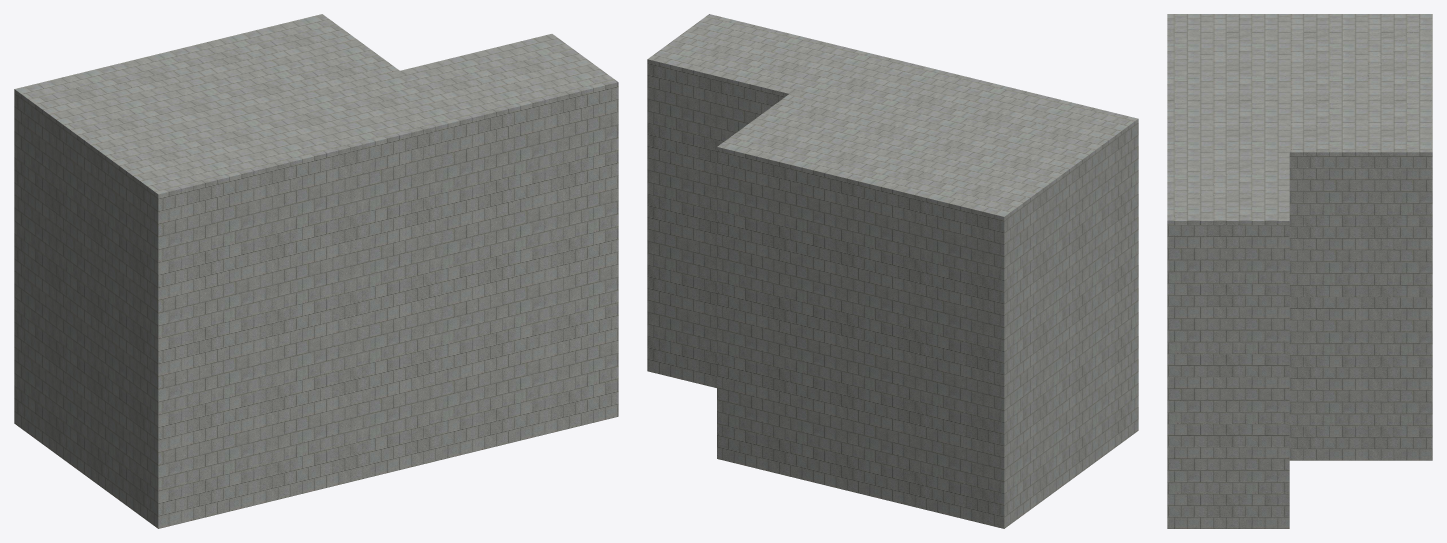
The picture shows the model from 3 angles, left to right: view 1: azimuth 30°, elevation 25°; view 2: azimuth 150°, elevation 25°; view 3: azimuth 270°, elevation 25°; orthographic projection. The views are drawn at different scales.
Parts seen in each view (by area): view 1: SketchUp; view 2: SketchUp; view 3: SketchUp.
Boxes of the visible parts, x1,y1,x2,y2 form: SketchUp: (14, 14, 618, 528); SketchUp: (647, 14, 1138, 528); SketchUp: (1167, 14, 1432, 528).
Bounding box in the file's own units: 303 × 164 × 211.
1 material, 1 textured.
